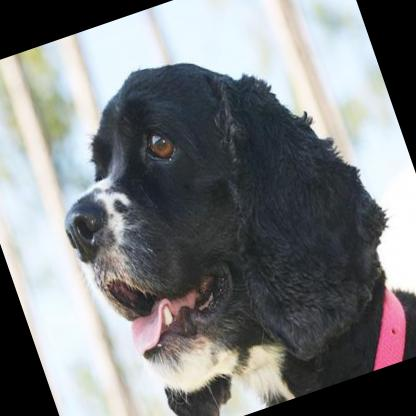cocker_spaniel: (20, 0, 416, 416)
